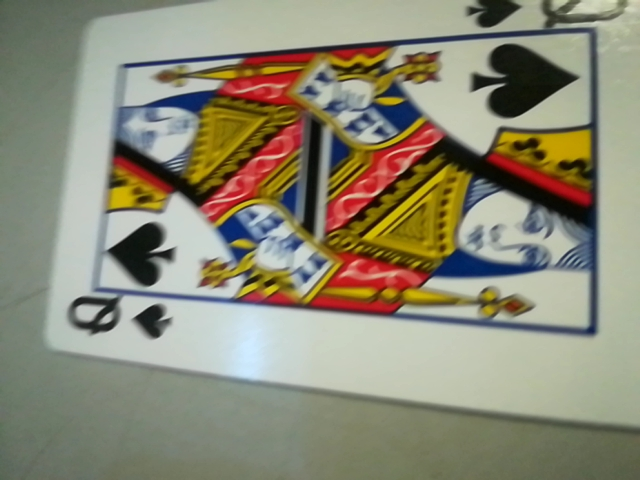ht q: (47, 282, 184, 350)
